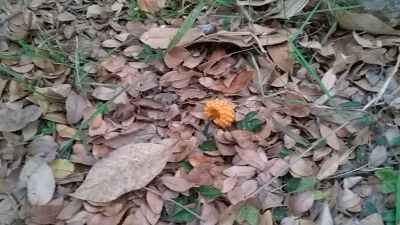eggs: (203, 98, 235, 128)
